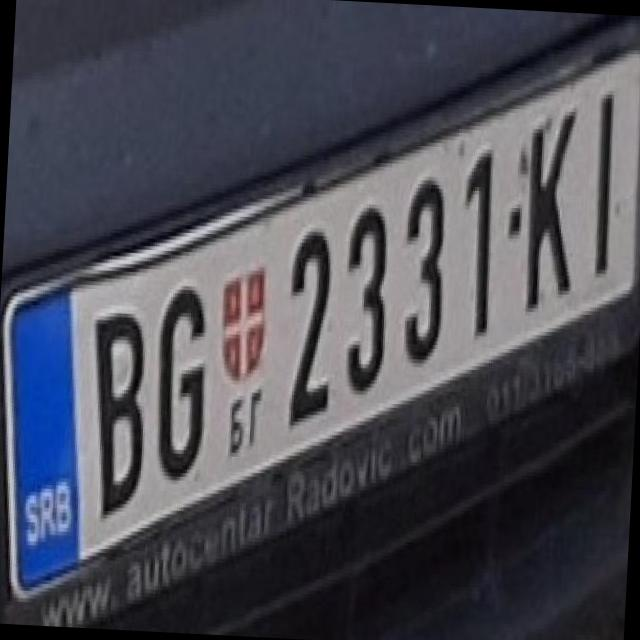1: (442, 132, 509, 341), (578, 82, 628, 275), (601, 79, 640, 279)
2: (274, 211, 348, 428)
3: (328, 183, 400, 396), (386, 163, 457, 364)
B: (76, 293, 156, 516)
G: (144, 274, 220, 482)
K: (513, 94, 587, 311)
